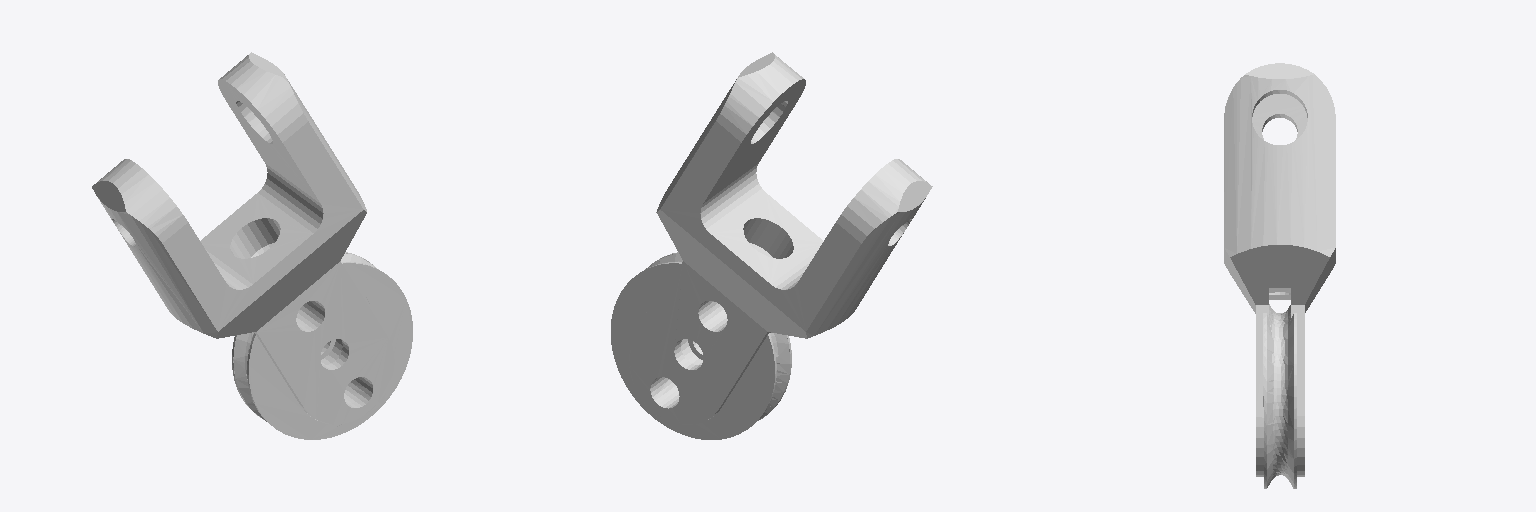
Rendered from wrist_R.OBJ.
3 views of the same model, side by side, from view 1: azimuth 30°, elevation 25°; view 2: azimuth 150°, elevation 25°; view 3: azimuth 270°, elevation 25° (orthographic).
Visible parts, largest first — view 1: /ambf/env/raven_2/wrist_R; view 2: /ambf/env/raven_2/wrist_R; view 3: /ambf/env/raven_2/wrist_R.
Boxes of the visible parts, box(x1,y1,x2,y2) form: /ambf/env/raven_2/wrist_R: box(92, 52, 412, 439); /ambf/env/raven_2/wrist_R: box(611, 52, 932, 439); /ambf/env/raven_2/wrist_R: box(1224, 63, 1335, 488).
Size of the model in its own units: 0.0154 by 0.0189 by 0.005.